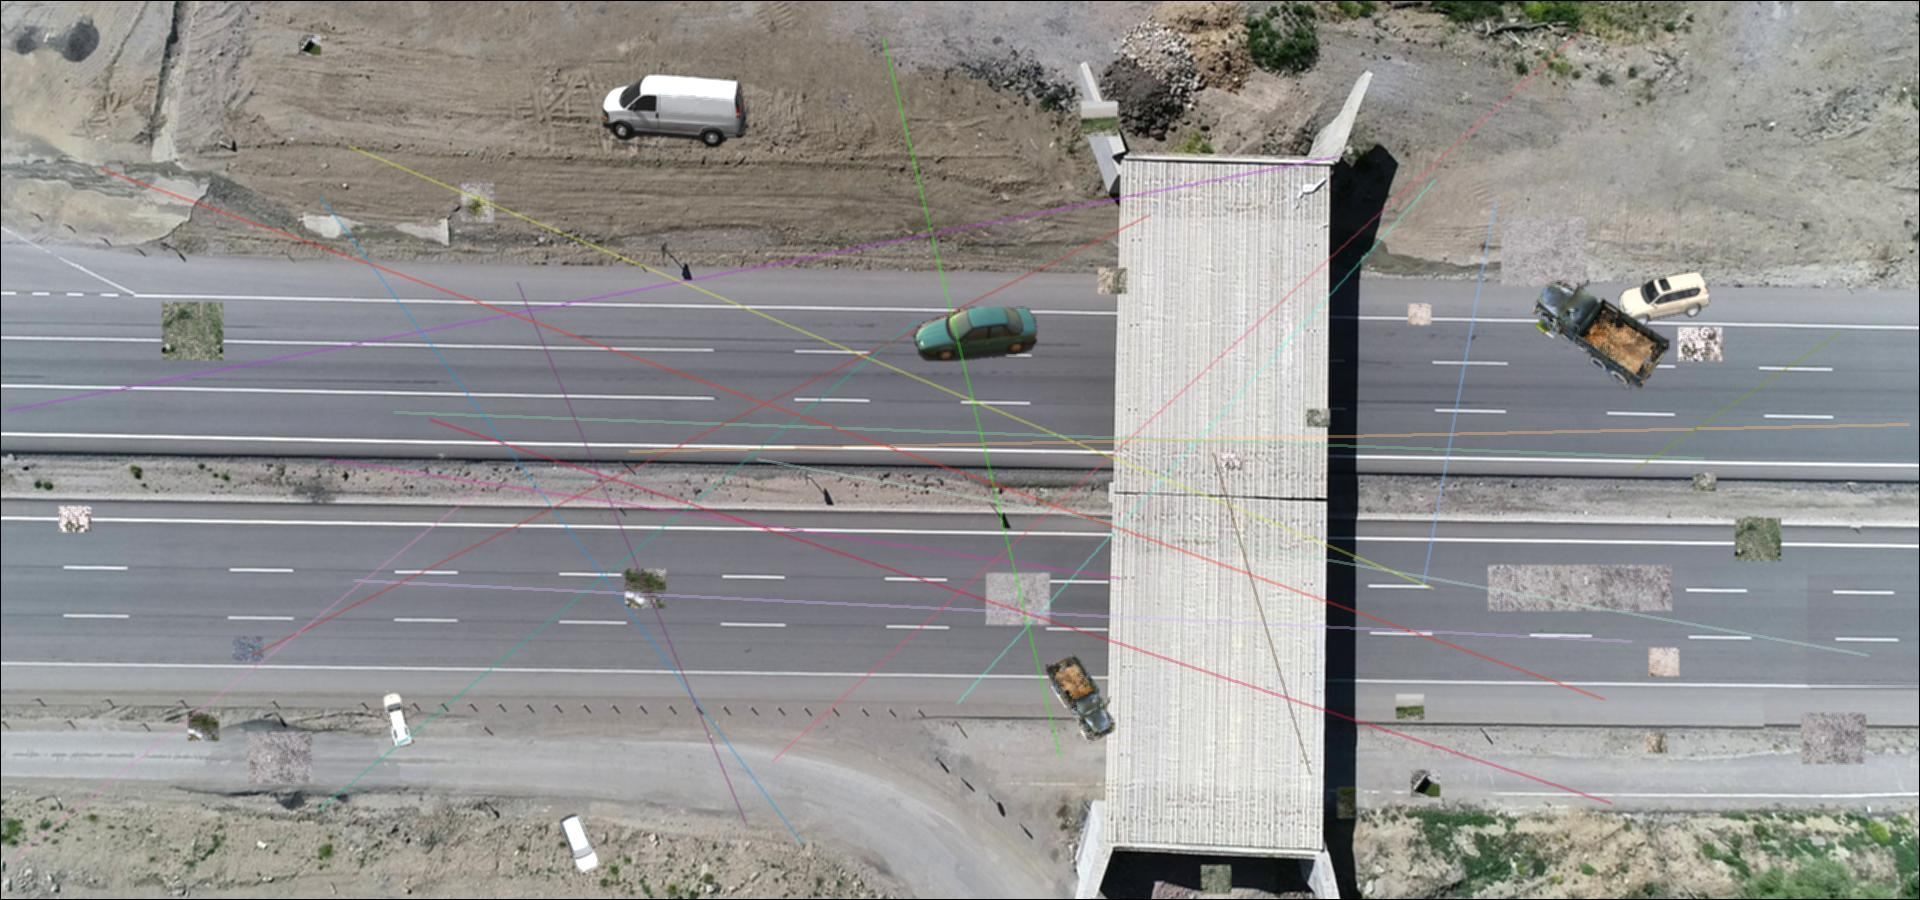arac: (1529, 276, 1670, 392), (602, 73, 746, 148), (912, 307, 1038, 361), (1044, 651, 1116, 743), (1615, 271, 1712, 327), (558, 812, 600, 873), (381, 691, 415, 747)
